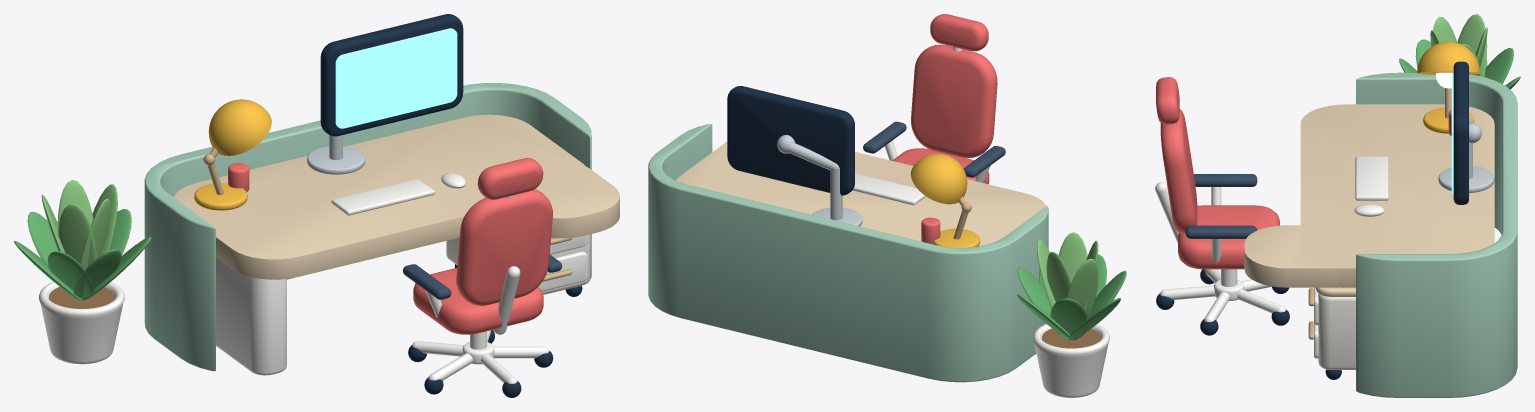
The model's file is office_desk_set.fbx.
3 renders of one model, left to right at view 1: azimuth 30°, elevation 25°; view 2: azimuth 150°, elevation 25°; view 3: azimuth 270°, elevation 25°, orthographic. The views are drawn at different scales.
Visible parts, largest first — view 1: Desk_Top, Desk_Partition, Chair_Back, Monitor_Screen, Desk_Legs, Plant_Leaves, Monitor_Frame, Plant_Pot, Plant_LeavesLight, Chair_Frame, Lamp_Body, Chair_Seat (+8 smaller); view 2: Desk_Partition, Desk_Top, Chair_Back, Monitor_Frame, Plant_Leaves, Plant_Pot, Plant_LeavesLight, Lamp_Body, Monitor_Arm, Chair_Arms, Desk_Keyboard, Plant_Soil (+2 smaller); view 3: Desk_Partition, Desk_Top, Chair_Back, Chair_Seat, Chair_Frame, Drawer_Body, Monitor_Frame, Lamp_Body, Desk_Keyboard, Chair_Arms, Plant_LeavesLight, Monitor_Arm (+5 smaller).
Boxes of the visible parts, x1=… form: Desk_Top: x1=174, y1=114, x2=619, y2=279; Desk_Partition: x1=144, y1=83, x2=591, y2=371; Chair_Back: x1=456, y1=157, x2=552, y2=305; Monitor_Screen: x1=335, y1=28, x2=457, y2=128; Desk_Legs: x1=216, y1=257, x2=286, y2=375; Plant_Leaves: x1=14, y1=209, x2=151, y2=300; Monitor_Frame: x1=320, y1=14, x2=463, y2=136; Plant_Pot: x1=39, y1=281, x2=124, y2=364; Plant_LeavesLight: x1=41, y1=180, x2=117, y2=269; Chair_Frame: x1=412, y1=195, x2=549, y2=383; Lamp_Body: x1=194, y1=99, x2=271, y2=210; Chair_Seat: x1=413, y1=268, x2=543, y2=334; Desk_Partition: x1=648, y1=124, x2=1048, y2=382; Desk_Top: x1=675, y1=142, x2=1046, y2=245; Chair_Back: x1=911, y1=14, x2=997, y2=158; Monitor_Frame: x1=727, y1=86, x2=854, y2=195; Plant_Leaves: x1=1017, y1=254, x2=1126, y2=340; Plant_Pot: x1=1033, y1=324, x2=1109, y2=397; Plant_LeavesLight: x1=1037, y1=232, x2=1098, y2=316; Lamp_Body: x1=910, y1=153, x2=980, y2=247; Monitor_Arm: x1=777, y1=135, x2=862, y2=226; Chair_Arms: x1=863, y1=121, x2=1005, y2=177; Desk_Keyboard: x1=852, y1=173, x2=925, y2=205; Plant_Soil: x1=1042, y1=328, x2=1100, y2=348; Desk_Partition: x1=1356, y1=72, x2=1517, y2=397; Desk_Top: x1=1244, y1=104, x2=1494, y2=287; Chair_Back: x1=1156, y1=77, x2=1197, y2=233; Chair_Seat: x1=1178, y1=205, x2=1279, y2=269; Chair_Frame: x1=1155, y1=182, x2=1285, y2=321; Drawer_Body: x1=1318, y1=293, x2=1355, y2=369; Monitor_Frame: x1=1453, y1=61, x2=1468, y2=204; Lamp_Body: x1=1417, y1=41, x2=1480, y2=133; Desk_Keyboard: x1=1354, y1=156, x2=1388, y2=216; Chair_Arms: x1=1185, y1=174, x2=1257, y2=238; Plant_LeavesLight: x1=1430, y1=14, x2=1487, y2=76; Monitor_Arm: x1=1438, y1=117, x2=1494, y2=192.
Size of the model in its own units: 11.44 by 5.1 by 7.17.
